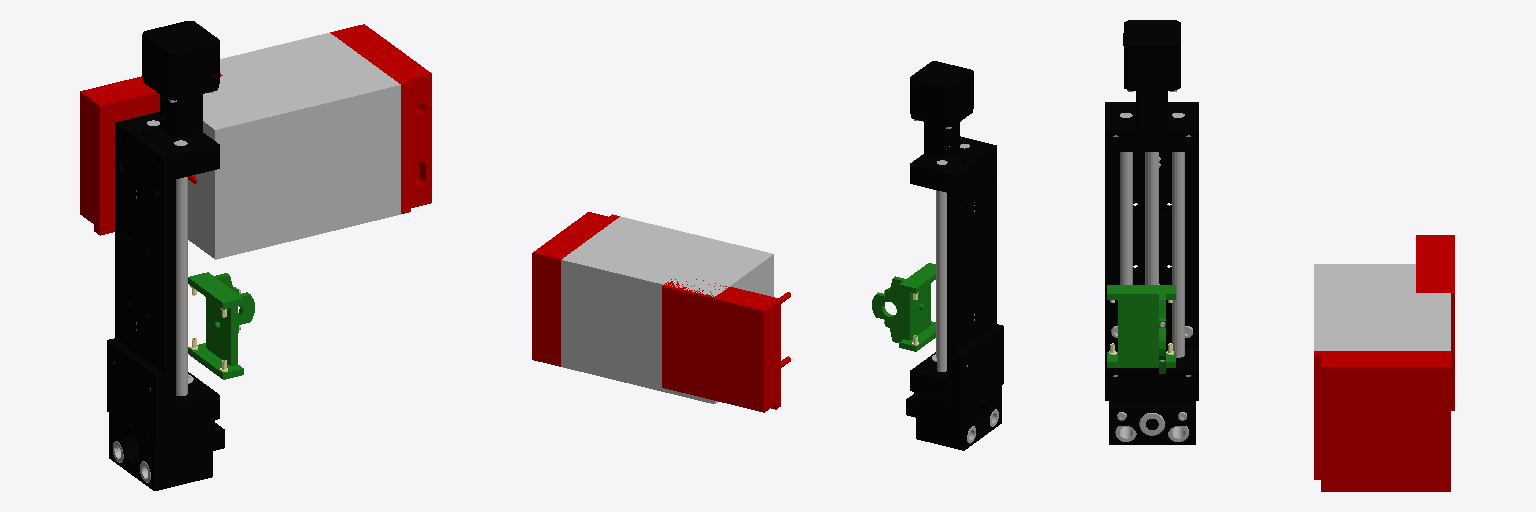
URDF robot description (arm):
<robot name="arm">
    <link name="world" />
    <joint name="base_joint" type="fixed">
        <origin xyz="0 0 0.046482" rpy="0 0 0 " />
        <parent link="world" />
        <child link="base" />
    </joint>
    <link name="base">
        <visual>
            <geometry>
                <mesh filename="model://adaptive_guide/meshes/Base Link.dae" />
            </geometry>
        </visual>
        <inertial>
            <mass value="4.642" />
            <inertia ixx="0.0758" iyy="0.1601" izz="0.1032" ixy="0.0004" ixz="-0.0537" iyz="0.0016" />
        </inertial>

    </link>
    <material name="gel">
      <color rgba="1 1 1 0.5"/>
    </material>
    <link name="phantom">
        <visual>
            <geometry>
                <mesh filename="model://adaptive_guide/meshes/Phantom.dae" />
            </geometry>
        </visual>
        <material name="gel"/>

        <inertial>
            <mass value="2.078" />
            <inertia ixx="0.0087" iyy="0.0277" izz="0.0279" ixy="-0.0091" ixz="0.0" iyz="0.0" />
        </inertial>

    </link>
    <gazebo reference="phantom">
        <material>Gazebo/GreyTransparent</material>
    </gazebo>
    <link name="phantom_target">
        <visual>
            <geometry>
                <mesh filename="model://adaptive_guide/meshes/PhantomTarget.dae" />
            </geometry>
        </visual>

        <inertial>
            <mass value="2.078" />
            <inertia ixx="0.0087" iyy="0.0277" izz="0.0279" ixy="-0.0091" ixz="0.0" iyz="0.0" />
        </inertial>

    </link>
    <joint name="phantom_joint" type="fixed">
        <origin xyz="0.140843 0.11779 0.115668" rpy="0 0 0" />
        <parent link="base" />
        <child link="phantom" />
    </joint>
    <joint name="phantom_target_joint" type="fixed">
        <origin xyz="0 0.075 0" rpy="0 0 0" />
        <parent link="phantom" />
        <child link="phantom_target" />
    </joint>
    
    <link name="link1">
        <visual>
            <geometry>
                <mesh filename="model://adaptive_guide/meshes/Link1.dae" />
            </geometry>
        </visual>

        <inertial>
            <mass value="0.568" />
            <inertia ixx="0.0122" iyy="0.0007" izz="0.0119" ixy="0.0" ixz="0.0002" iyz="-0.0016" />
        </inertial>

    </link>
    <link name="link2">
        <visual>
            <geometry>
                <mesh filename="model:///adaptive_guide/meshes/Link2.dae" />
            </geometry>
        </visual>

        <inertial>
            <mass value="0.204" />
            <inertia ixx="0.0003" iyy="0.0012" izz="0.0014" ixy="0.0002" ixz="0.0001" iyz="0.0" />
        </inertial>

    </link>
    <link name="link3">
        <visual>
            <geometry>
                <mesh filename="model://adaptive_guide/meshes/Link3.dae" />
            </geometry>
        </visual>
        <inertial>
            <mass value="0.025" />
            <inertia ixx="0.0" iyy="0.0" izz="0.0" ixy="0.0" ixz="0.0" iyz="0.0" />
        </inertial>

    </link>
    <link name="link4">
        <visual>
            <geometry>
                <mesh filename="model://adaptive_guide/meshes/Link4.dae" />
            </geometry>
        </visual>

        <inertial>
            <mass value="0.023" />
            <inertia ixx="0.0" iyy="0.0" izz="0.0" ixy="0.0" ixz="0.0" iyz="0.0" />
        </inertial>

    </link>
    <link name="EE" />

    <joint name="joint1" type="prismatic">
        <origin xyz="0.005 0 0" rpy="0 0 0 " />
        <limit lower="0" upper="0.100" effort="30.0" velocity="6" />
        <parent link="base" />
        <child link="link1" />
        <axis xyz="1 0 0" />
    </joint>
    <joint name="joint2" type="prismatic">
        <origin xyz="0.040132 0 0.0487525" rpy="0 0 0" />
        <limit lower="0" upper="0.100" effort="30.0" velocity="6" />
        <parent link="link1" />
        <child link="link2" />
        <axis xyz="0 0 1" />
    </joint>
    <joint name="joint3" type="prismatic">
        <origin xyz="0.045724 0.009758 0.0333375" rpy="0 0 0 " />
        <limit lower="-0.160" upper="0" effort="30.0" velocity="6" />
        <parent link="link2" />
        <child link="link3" />
        <axis xyz="0 1 0" />
    </joint>
    <joint name="joint4" type="revolute">
        <origin xyz="-0.00025 0 0" rpy="0 0 0 " />
        <limit lower="-3" upper="3" effort="30.0" velocity="6" />
        <parent link="link3" />
        <child link="link4" />
        <axis xyz="0 1 0" />
    </joint>
    <joint name="joint_EE" type="fixed">
        <origin xyz="0.16 0 0" rpy="0 0 0 " effort="30.0" velocity="6" />
        <parent link="link4" />
        <child link="EE" />
    </joint>
</robot>

--- Render facts (derived) ---
Views: 3 orthographic renders of the robot side by side, from view 1: azimuth 30°, elevation 25°; view 2: azimuth 150°, elevation 25°; view 3: azimuth 270°, elevation 25°.
Robot: arm — 9 links, 8 joints (1 revolute, 3 prismatic, 4 fixed); root link world; default pose: every joint at zero.
Visible links, largest first — view 1: phantom, link1, phantom_target, link3; view 2: link1, phantom, phantom_target, link3; view 3: link1, phantom, link3, phantom_target.
Boxes of the visible links, x1,y1,x2,y2 form: phantom: (188, 24, 431, 259); link1: (107, 21, 224, 490); phantom_target: (80, 73, 222, 235); link3: (188, 272, 254, 379); link1: (906, 61, 1003, 450); phantom: (532, 212, 773, 403); phantom_target: (662, 279, 790, 412); link3: (872, 263, 935, 351); link1: (1105, 20, 1198, 444); phantom: (1314, 264, 1450, 491); link3: (1107, 285, 1175, 373); phantom_target: (1416, 235, 1454, 410).
Bounding box of the posed robot: 0.3138 × 0.2551 × 0.329 m (x, y, z).
Meshes: 7 distinct files referenced, 4 mesh visuals loaded (4 Collada DAE); not drawn: 3 (reference not matched to a file when rendering).